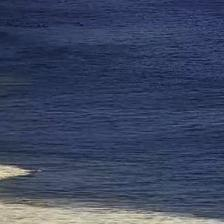surfer: (5, 20, 11, 25), (37, 23, 42, 27), (79, 23, 84, 26)
